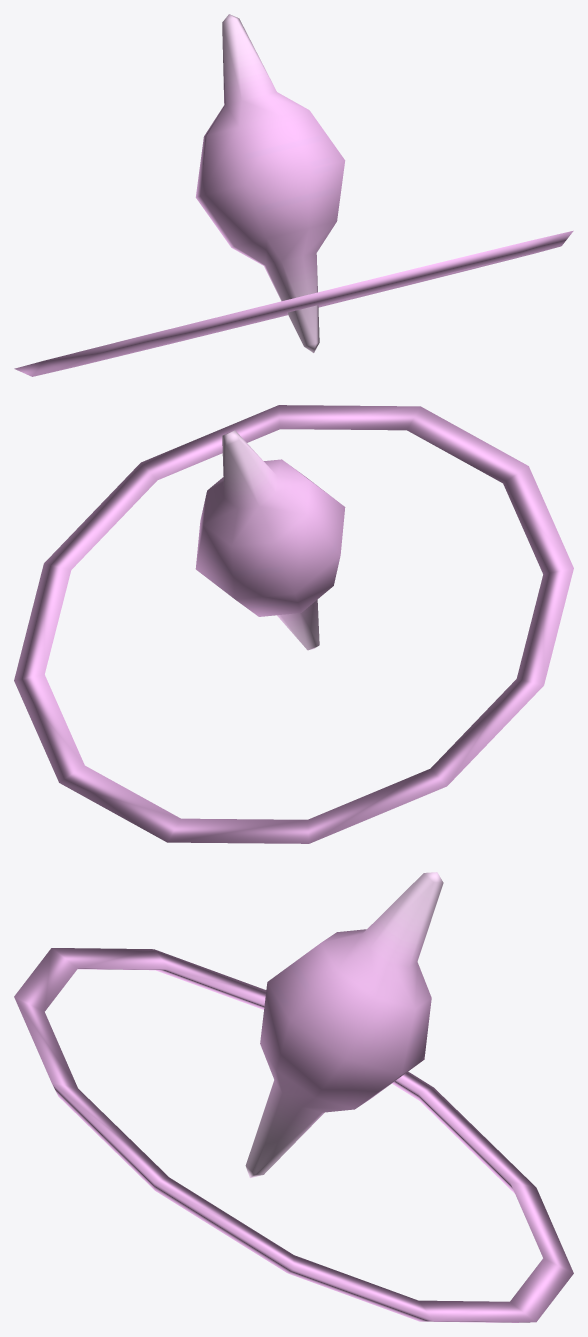
Rendered from CH0069_Halo.fbx.
3 views of the same model, one above another, from view 1: azimuth 30°, elevation 25°; view 2: azimuth 150°, elevation 25°; view 3: azimuth 270°, elevation 25° (orthographic). The views are drawn at different scales.
Visible parts, largest first — view 1: CH0069_Halo; view 2: CH0069_Halo; view 3: CH0069_Halo.
Boxes of the visible parts, x1,y1,x2,y2 form: CH0069_Halo: (14, 14, 573, 376); CH0069_Halo: (14, 405, 573, 843); CH0069_Halo: (14, 872, 573, 1322).
Bounding box in the file's own units: 0.2397 × 0.1678 × 0.2104.
